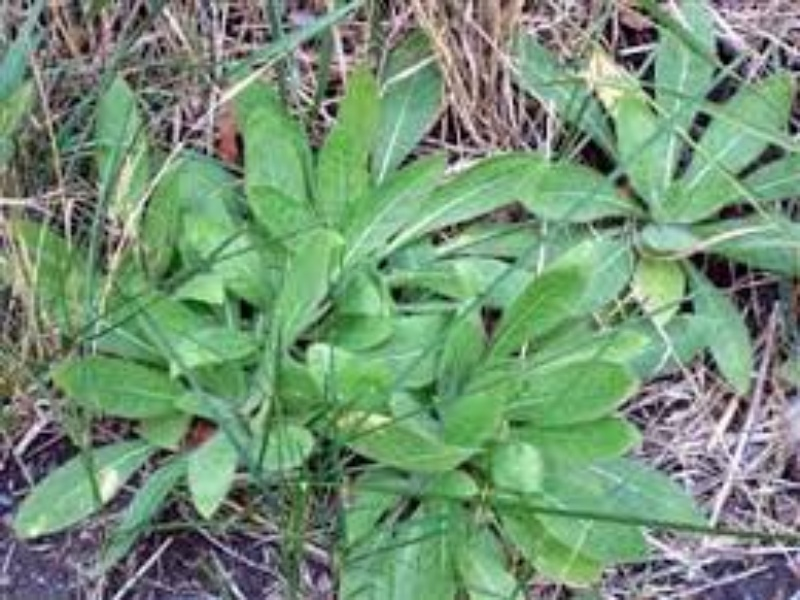weed: (68, 86, 466, 477), (513, 17, 798, 375), (357, 306, 650, 591)
